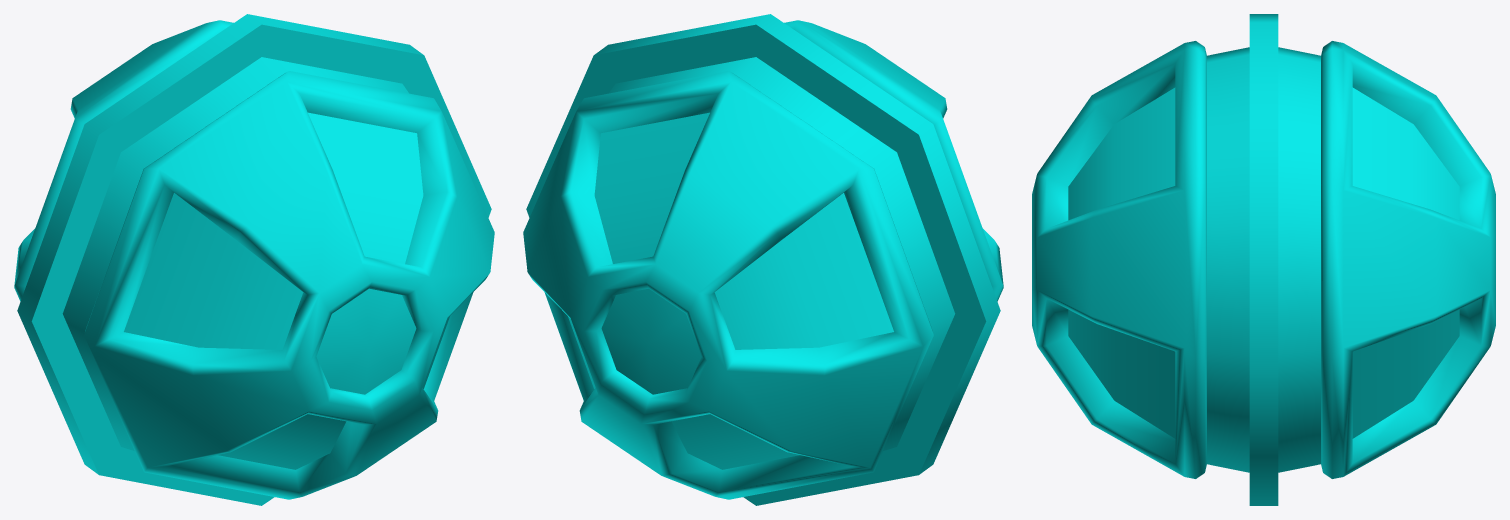
The model's file is MC_ballshoeRIGHT.fbx.
3 renders of one model, left to right at view 1: azimuth 30°, elevation 25°; view 2: azimuth 150°, elevation 25°; view 3: azimuth 270°, elevation 25°, orthographic.
Visible parts, largest first — view 1: BallShoe_r; view 2: BallShoe_r; view 3: BallShoe_r.
Part boxes in pixels (x1=…): BallShoe_r: x1=14, y1=14, x2=494, y2=505; BallShoe_r: x1=523, y1=14, x2=1003, y2=505; BallShoe_r: x1=1032, y1=14, x2=1495, y2=505.
Size of the model in its own units: 74.19 by 74.19 by 65.74.
